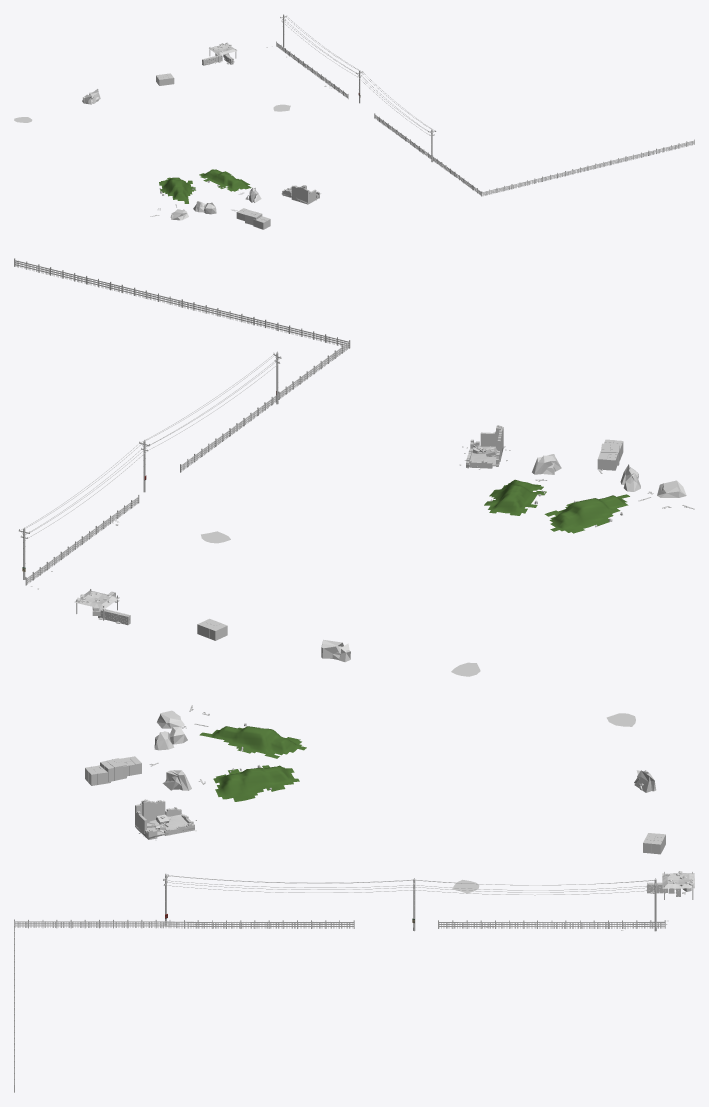
Rendered from outdoor_20.glb.
3 renders of one model, top to bottom at view 1: azimuth 30°, elevation 25°; view 2: azimuth 150°, elevation 25°; view 3: azimuth 270°, elevation 25°, orthographic. The views are drawn at different scales.
Parts seen in each view (by area): view 1: gas_station_town; view 2: gas_station_town; view 3: gas_station_town.
Part boxes in pixels (x1=…): gas_station_town: x1=14, y1=14, x2=694, y2=229; gas_station_town: x1=14, y1=258, x2=694, y2=676; gas_station_town: x1=14, y1=705, x2=694, y2=1092.
Size of the model in its own units: 126 by 9.73 by 96.33.
3 materials, 2 textured.
